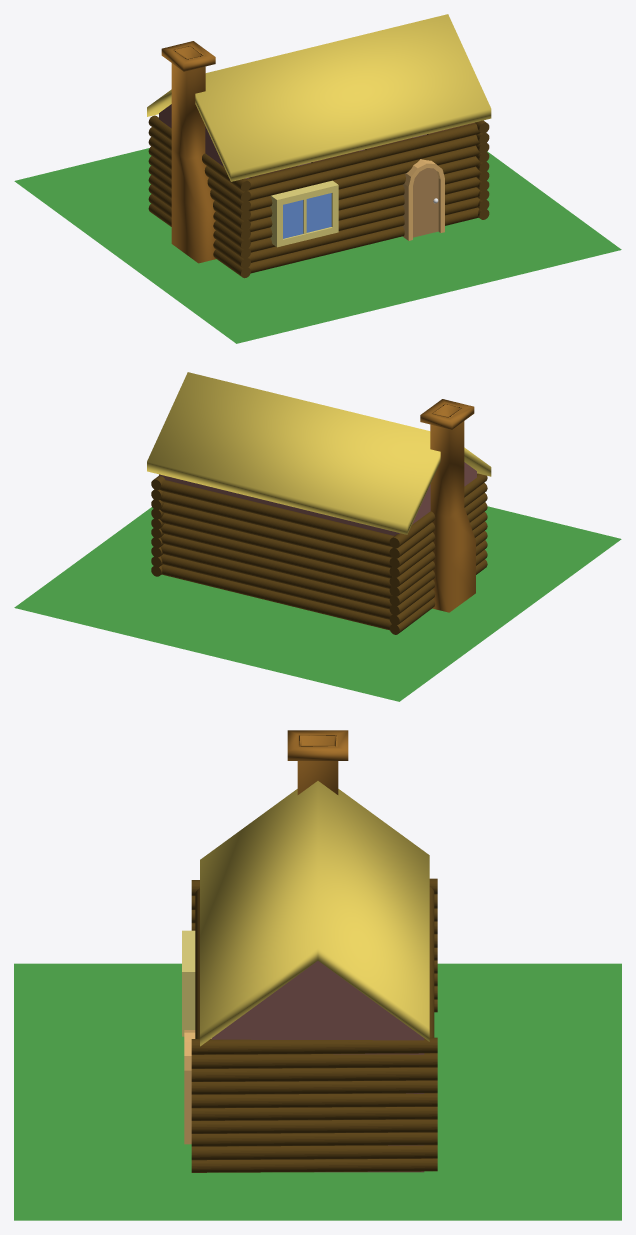
Rendered from house.fbx.
The picture shows the model from 3 angles, top to bottom: view 1: azimuth 30°, elevation 25°; view 2: azimuth 150°, elevation 25°; view 3: azimuth 270°, elevation 25°; orthographic projection. The views are drawn at different scales.
Visible parts, largest first — view 1: Plane, Plane.002, Cylinder.037, Plane.007, Plane.006, Plane.008, Plane.003, Plane.009, Plane.010, Plane.001; view 2: Plane, Plane.002, Cylinder.037, Plane.007, Plane.001; view 3: Plane, Plane.002, Cylinder.037, Plane.001, Plane.007, Plane.006, Plane.003.
Part boxes in pixels (x1=…): Plane: x1=14, y1=148, x2=621, y2=343; Plane.002: x1=147, y1=14, x2=491, y2=181; Cylinder.037: x1=148, y1=115, x2=489, y2=278; Plane.007: x1=161, y1=41, x2=215, y2=263; Plane.006: x1=270, y1=180, x2=338, y2=247; Plane.008: x1=413, y1=168, x2=438, y2=237; Plane.003: x1=403, y1=159, x2=444, y2=240; Plane.009: x1=306, y1=193, x2=331, y2=232; Plane.010: x1=283, y1=200, x2=303, y2=238; Plane.001: x1=159, y1=104, x2=426, y2=178; Plane: x1=14, y1=506, x2=621, y2=701; Plane.002: x1=147, y1=372, x2=491, y2=534; Cylinder.037: x1=151, y1=473, x2=487, y2=634; Plane.007: x1=420, y1=399, x2=475, y2=612; Plane.001: x1=159, y1=462, x2=476, y2=535; Plane: x1=14, y1=963, x2=621, y2=1220; Plane.002: x1=200, y1=781, x2=429, y2=1046; Cylinder.037: x1=191, y1=878, x2=437, y2=1172; Plane.001: x1=211, y1=961, x2=424, y2=1172; Plane.007: x1=287, y1=730, x2=348, y2=794; Plane.006: x1=182, y1=930, x2=195, y2=1036; Plane.003: x1=184, y1=1030, x2=211, y2=1144.
Bounding box in the file's own units: 800 × 392 × 800.
